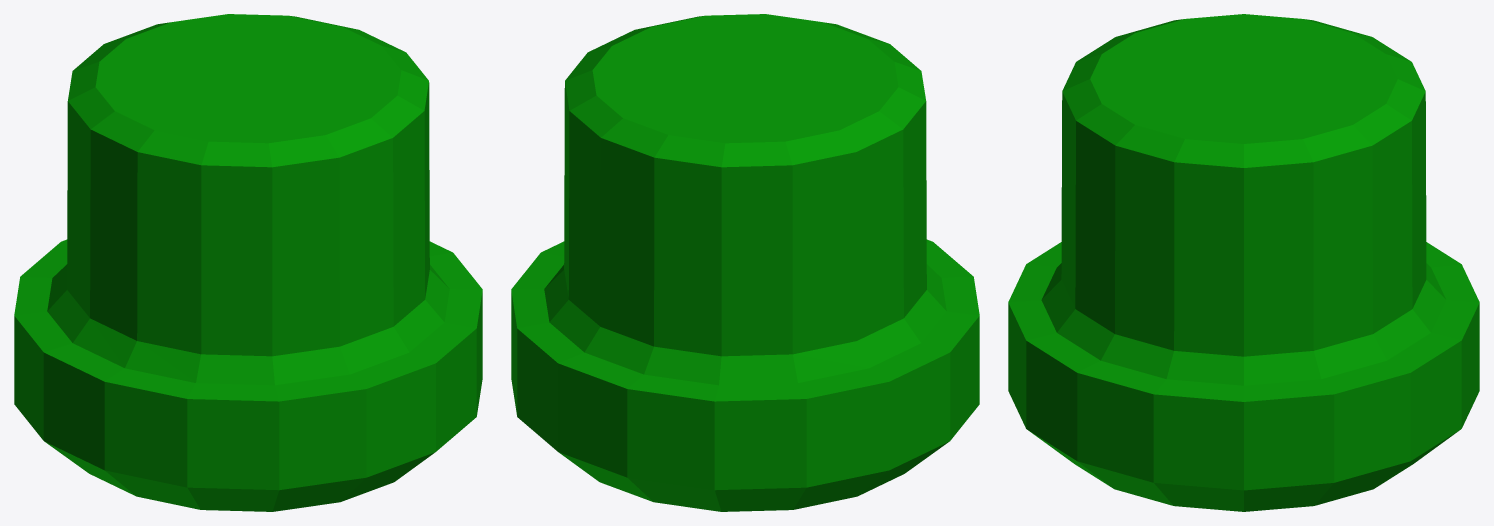
Rendered from original-96.obj.
3 renders of one model, left to right at view 1: azimuth 30°, elevation 25°; view 2: azimuth 150°, elevation 25°; view 3: azimuth 270°, elevation 25°, orthographic.
Parts seen in each view (by area): view 1: mesh90/mesh90-geometry#mesh90-geometry; view 2: mesh90/mesh90-geometry#mesh90-geometry; view 3: mesh90/mesh90-geometry#mesh90-geometry.
Part boxes in pixels (left/top/right/bottom): mesh90/mesh90-geometry#mesh90-geometry: left=14, top=14, right=482, bottom=511; mesh90/mesh90-geometry#mesh90-geometry: left=511, top=14, right=979, bottom=511; mesh90/mesh90-geometry#mesh90-geometry: left=1008, top=14, right=1479, bottom=511.
Size of the model in its own units: 0.00848 by 0.00706 by 0.00848.
